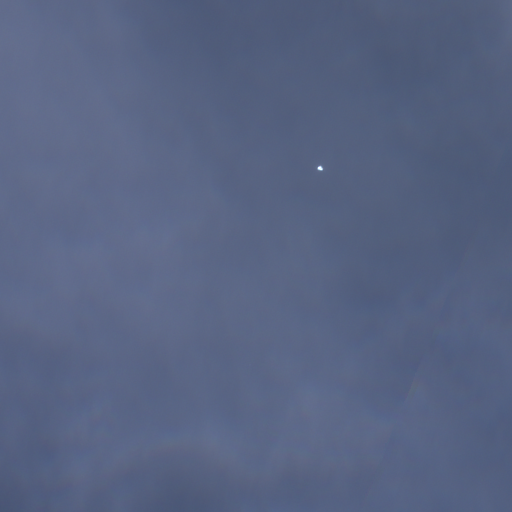Iceberg: (317, 166, 322, 170)
